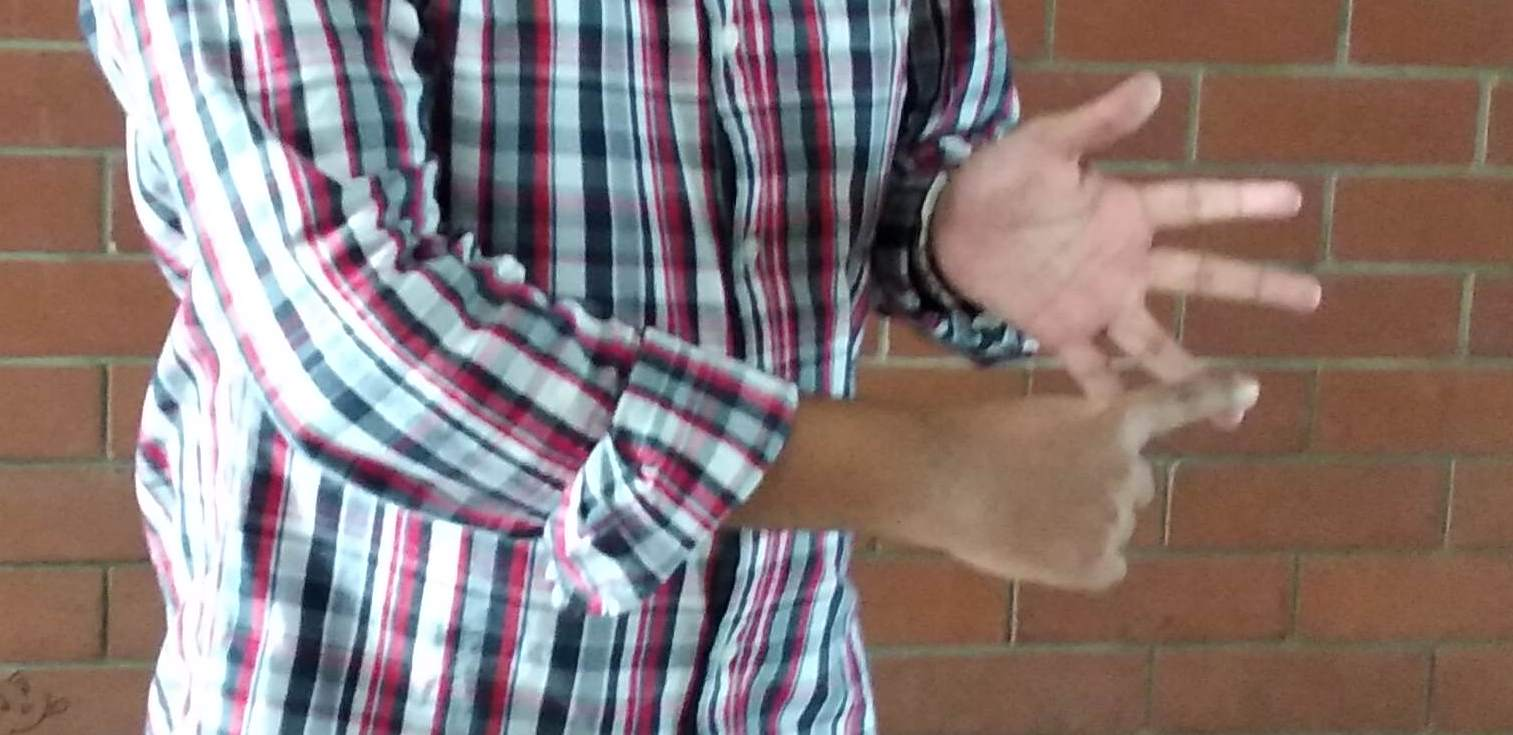e: (1011, 106, 1328, 497)
